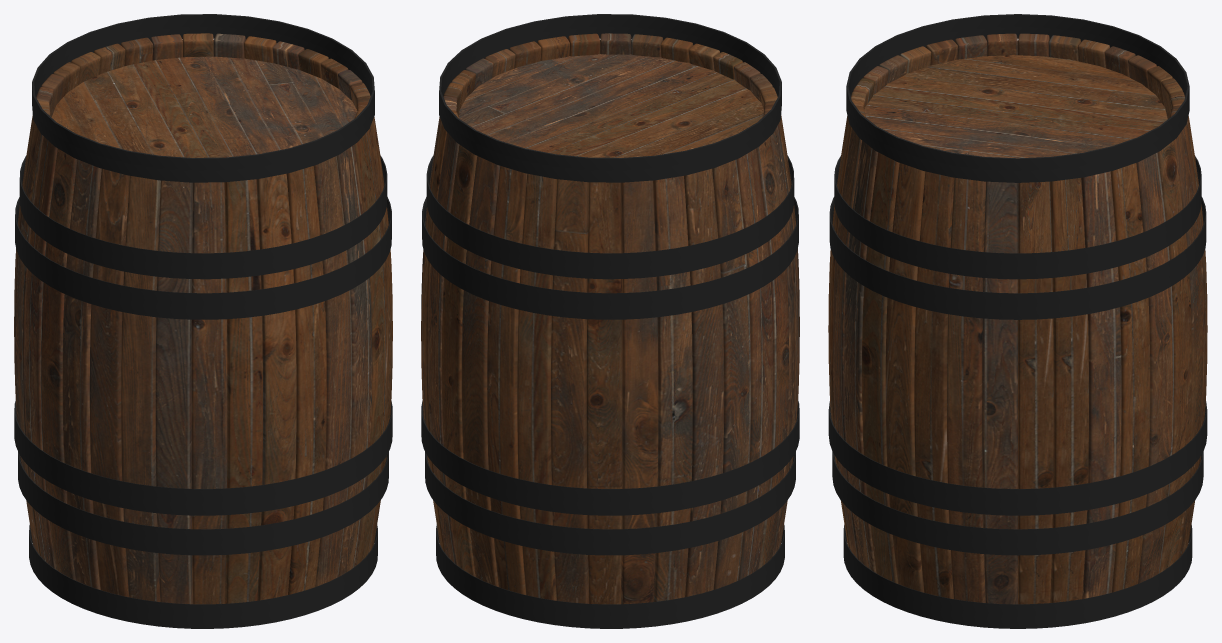
Rendered from barrel.glb.
3 views of the same model, side by side, from view 1: azimuth 30°, elevation 25°; view 2: azimuth 150°, elevation 25°; view 3: azimuth 270°, elevation 25° (orthographic).
Parts seen in each view (by area): view 1: Wooden Barrel; view 2: Wooden Barrel; view 3: Wooden Barrel.
Boxes of the visible parts, x1=… form: Wooden Barrel: x1=14, y1=14, x2=392, y2=628; Wooden Barrel: x1=421, y1=14, x2=799, y2=628; Wooden Barrel: x1=828, y1=14, x2=1207, y2=628.
Bounding box in the file's own units: 2.35 × 3.2 × 2.35.
Materials: 2 (1 with a texture image).
